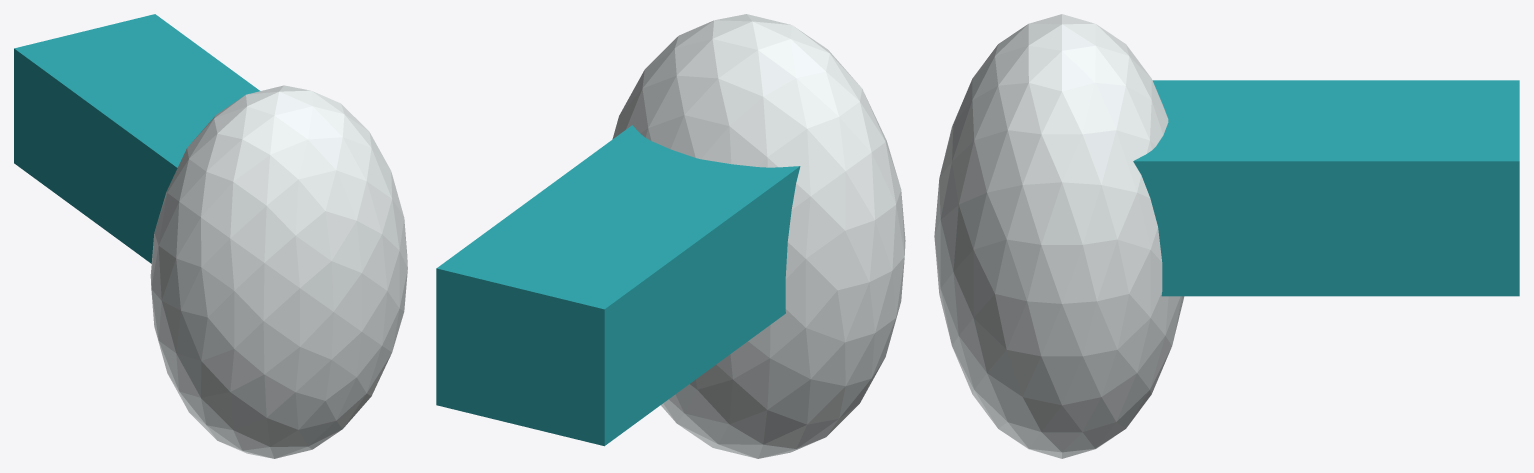
Rendered from wall-sconce.glb.
3 renders of one model, left to right at view 1: azimuth 30°, elevation 25°; view 2: azimuth 150°, elevation 25°; view 3: azimuth 270°, elevation 25°, orthographic. The views are drawn at different scales.
Visible parts, largest first — view 1: world; view 2: world; view 3: world.
Boxes of the visible parts, x1,y1,x2,y2 form: world: (14, 14, 407, 458); world: (436, 14, 905, 458); world: (934, 14, 1519, 458).
Size of the model in its own units: 0.3 by 0.44 by 0.55.
